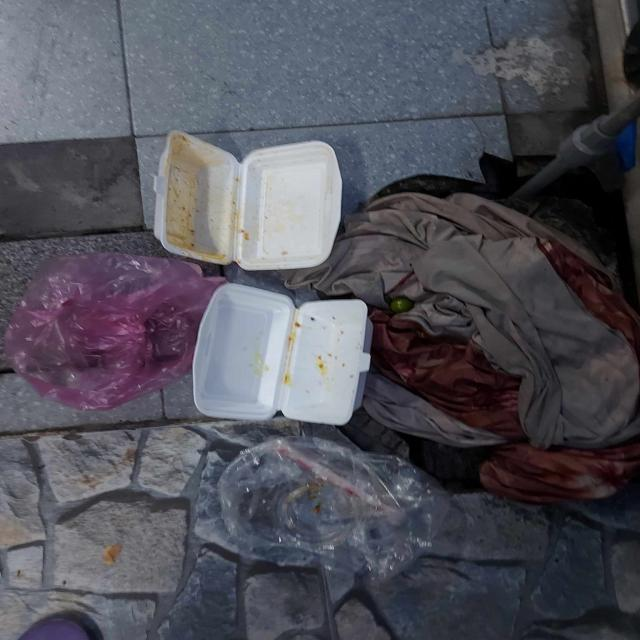bag: (1, 250, 232, 413), (215, 434, 440, 587)
clothes: (284, 190, 640, 504)
foam box: (151, 128, 344, 271), (192, 282, 376, 428)
